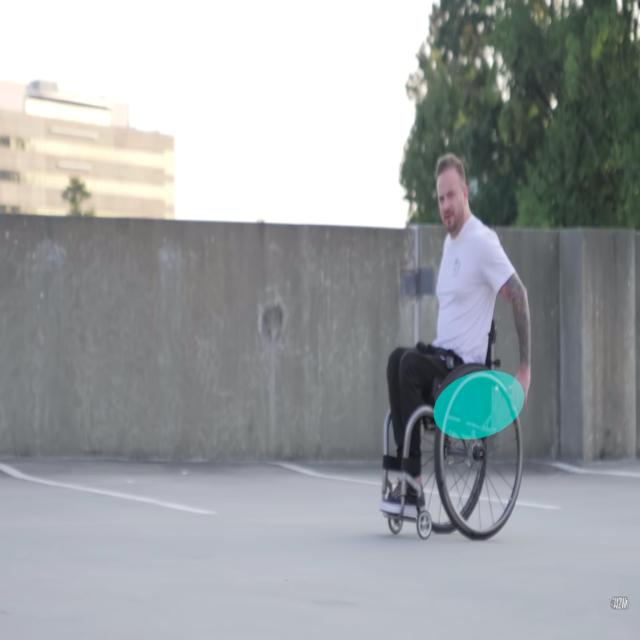wheelchairs: (379, 306, 524, 542)
